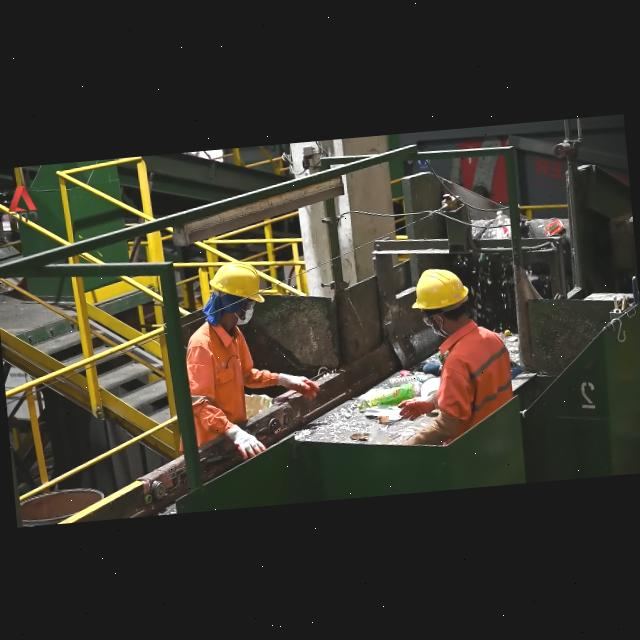trash: (355, 382, 417, 412), (386, 372, 432, 387)
